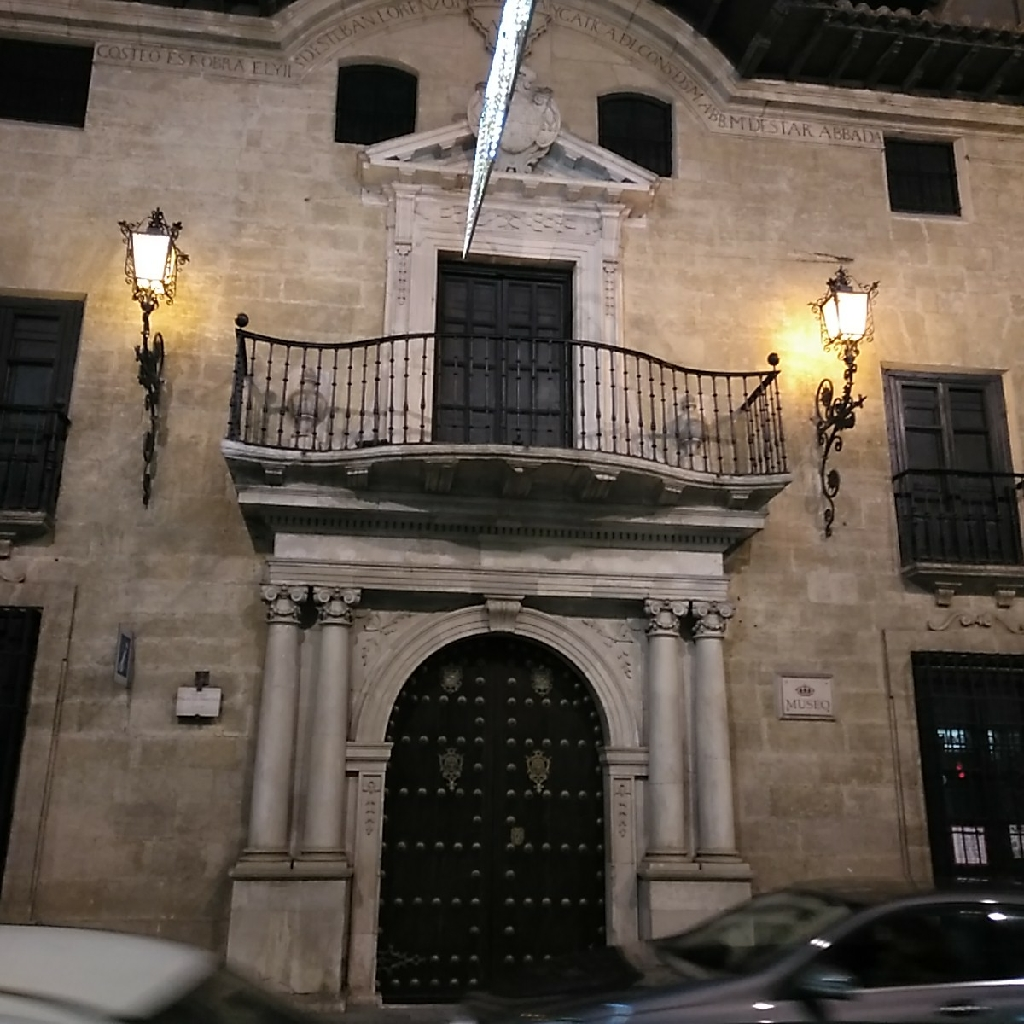arco-medio-punto: (367, 616, 625, 790)
fronton: (360, 110, 666, 202)
vano-adintelado: (397, 213, 600, 457), (875, 598, 1024, 905), (871, 353, 1024, 584), (1, 281, 98, 547)
